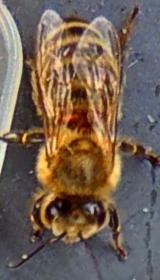varroa_mite: (57, 107, 101, 138)
